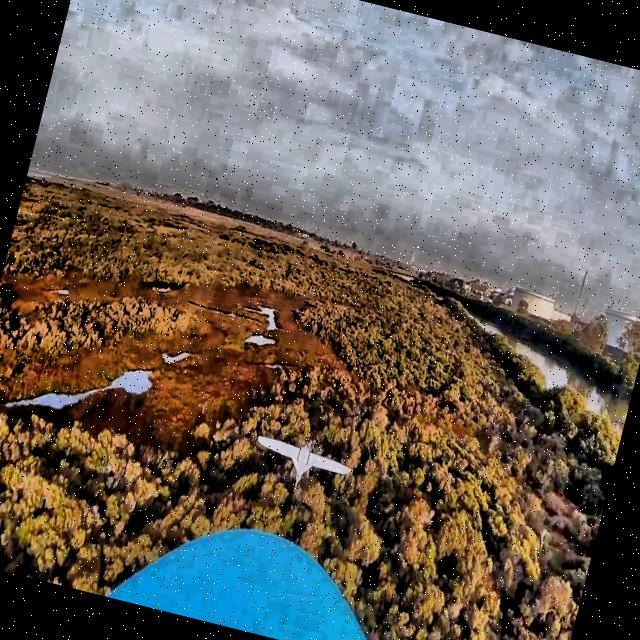iha: (270, 451, 331, 474)
